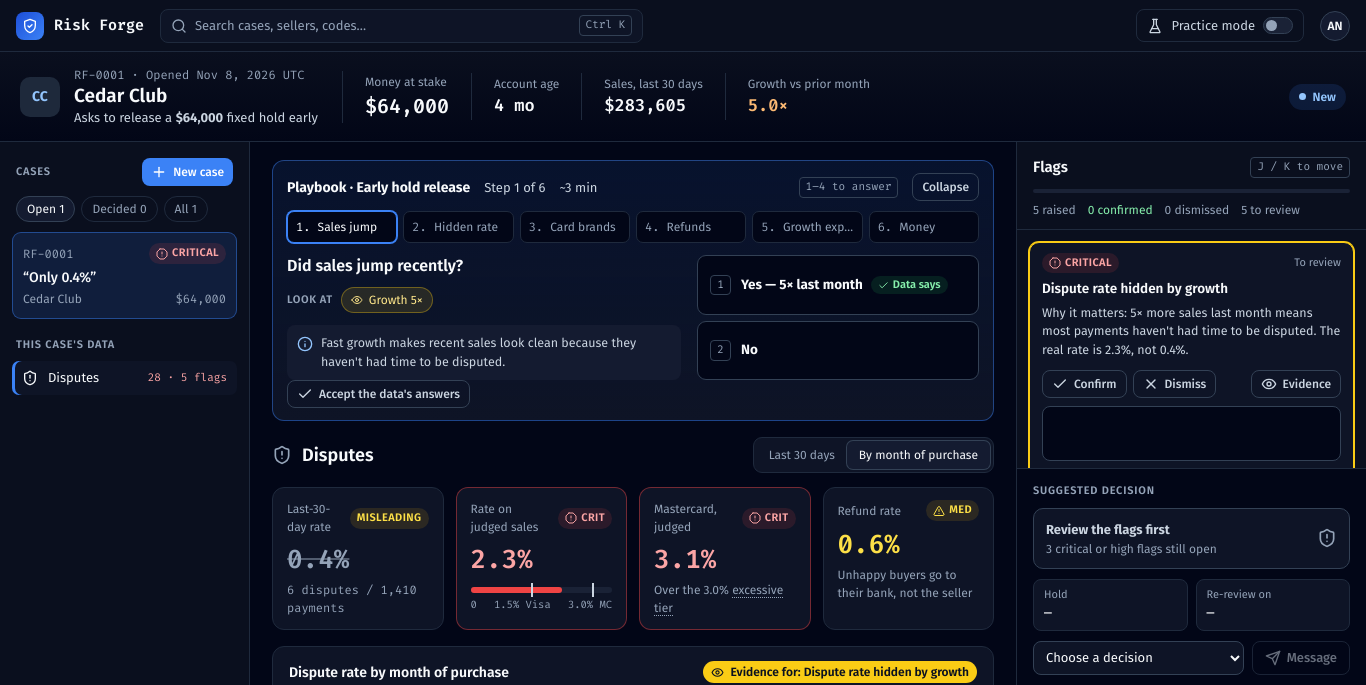
Test case: decision panel › reverts an empty hold on blur and commits on Enter
Step 1. Select "Partial release" in the dropdown named "Decision" → (1138, 658), box x1=1033 y1=640 x2=1244 y2=674
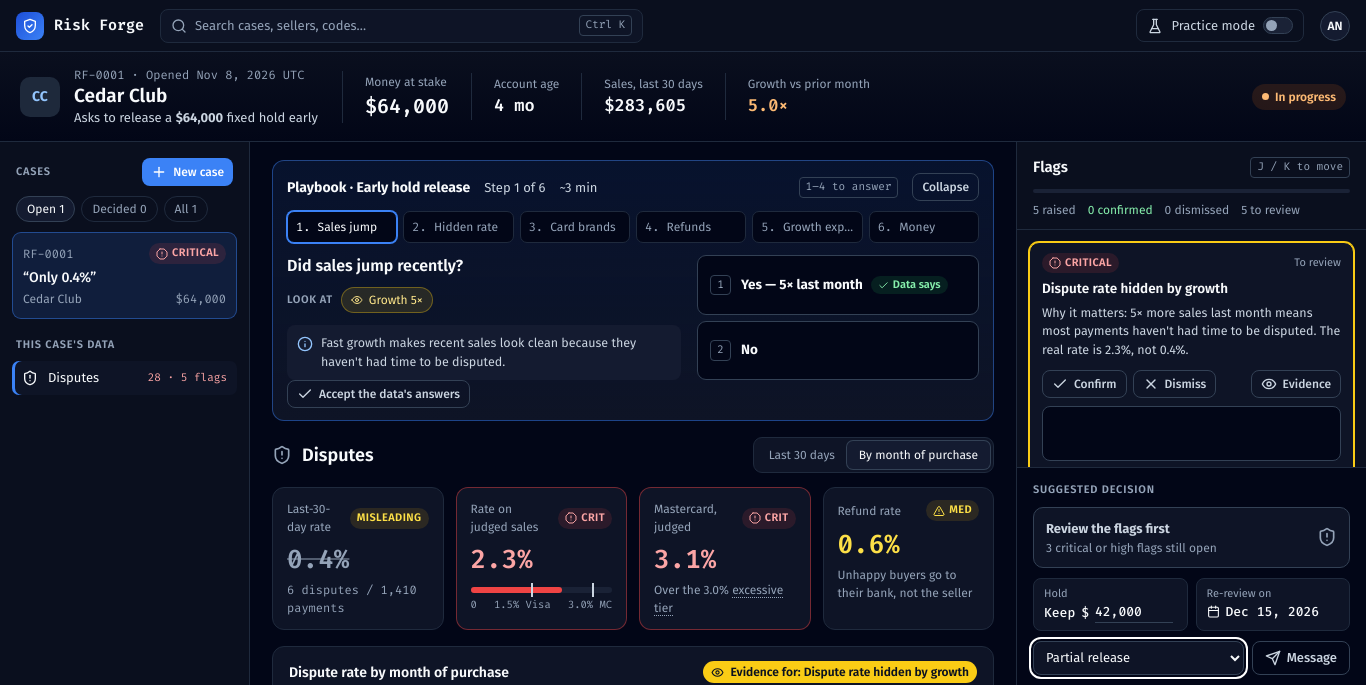
Step 2. Clear the field named "Hold amount in dollars" → (1134, 612), box x1=1095 y1=602 x2=1173 y2=622
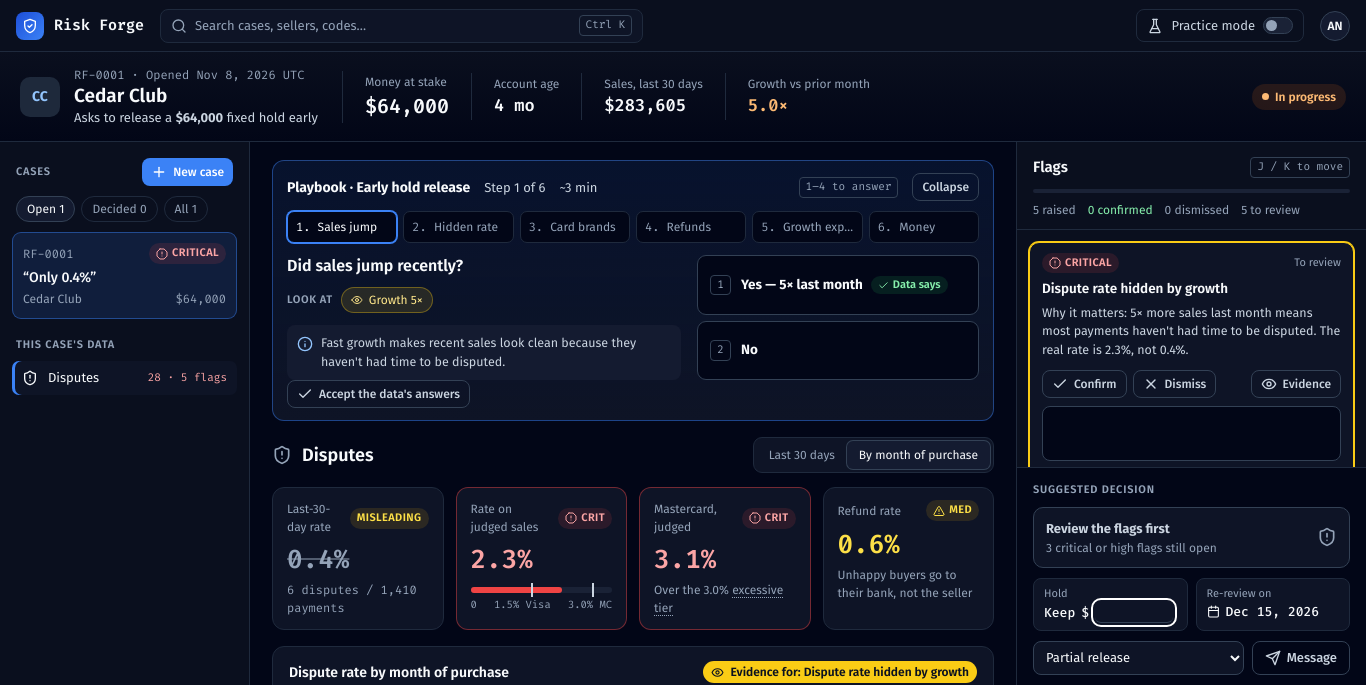
Step 3. Press Tab
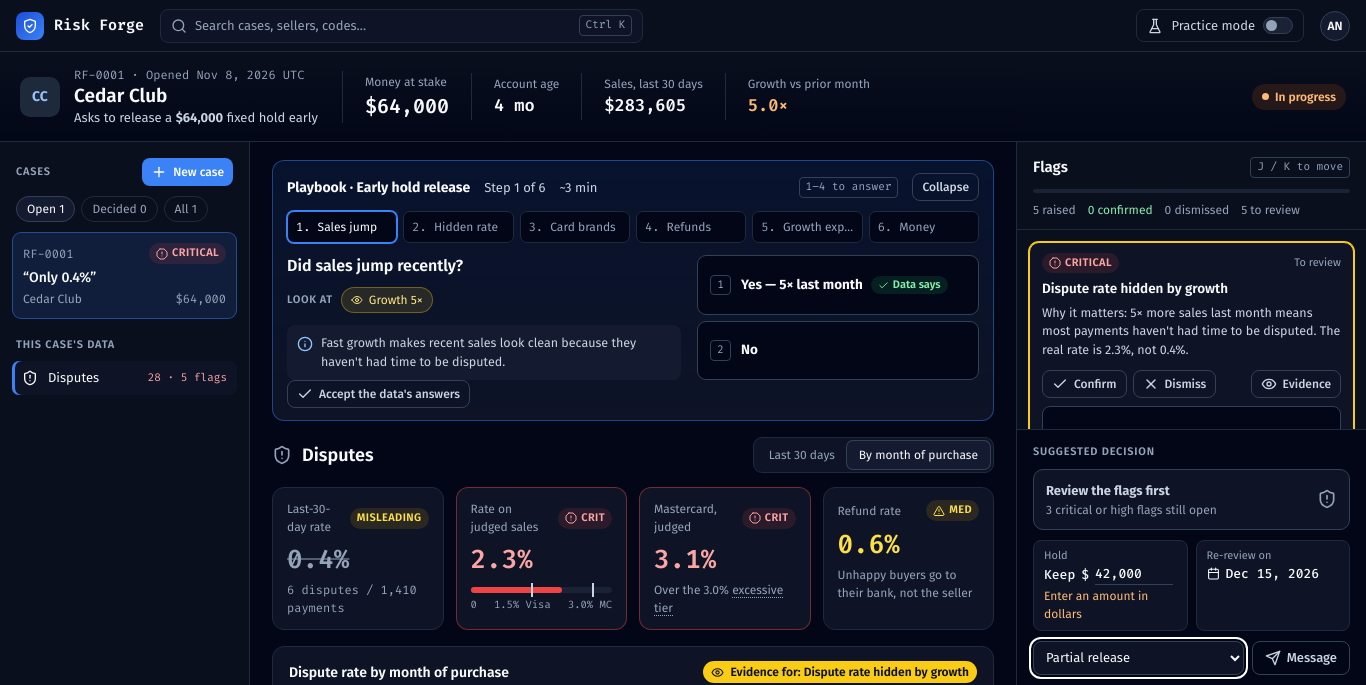
Expected: the field named "Hold amount in dollars" holds "42,000"
Expected: the text "Enter an amount in dollars" is shown, x1=1044 y1=588 x2=1148 y2=620
Step 4. Type "250" into the field named "Hold amount in dollars" → (1134, 574), box x1=1095 y1=564 x2=1173 y2=584
Then press Enter
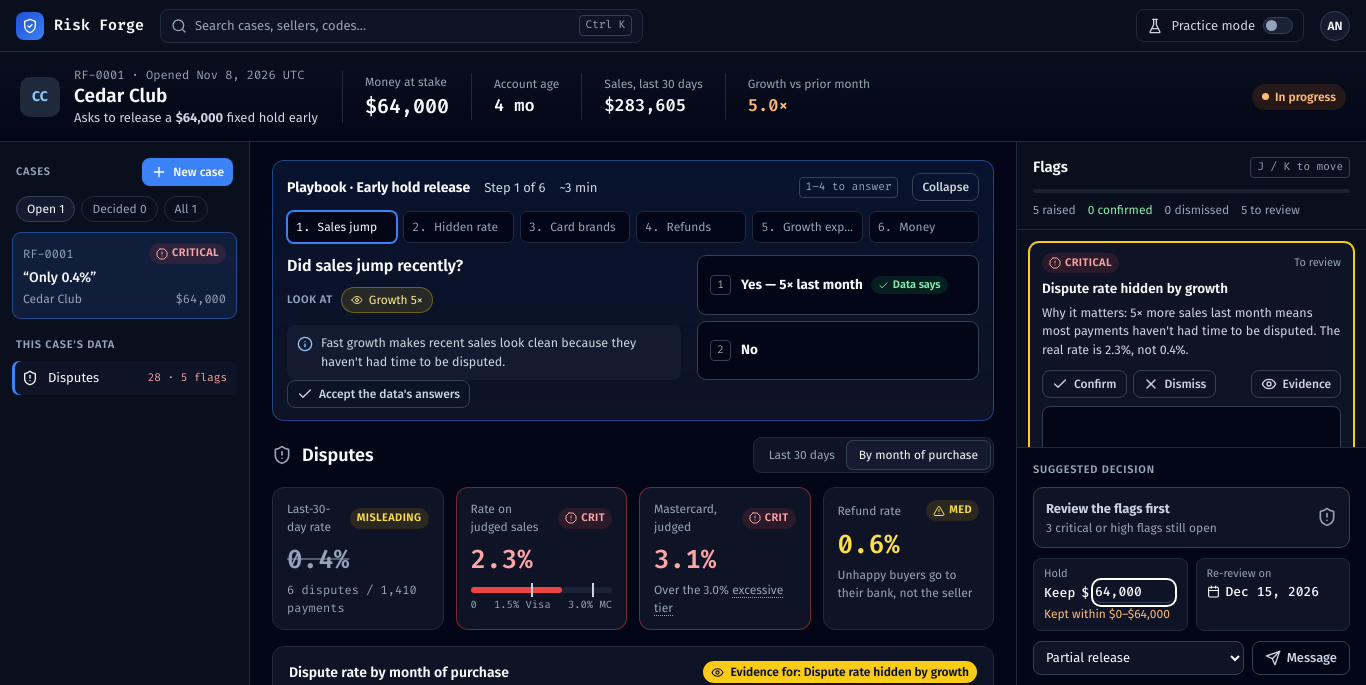
Expected: the text "Enter an amount in dollars" is gone
